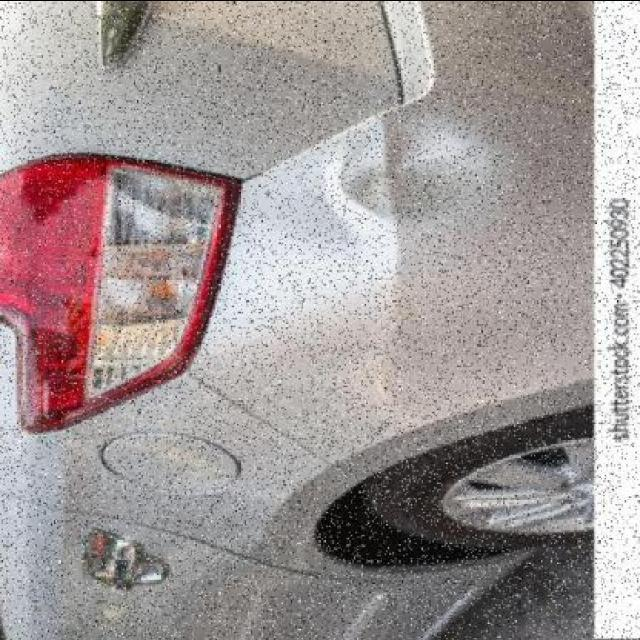rear-bumper-dent: (321, 1, 597, 474)
